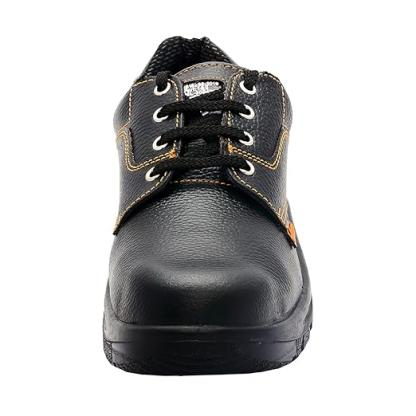bota: (96, 33, 316, 377)
